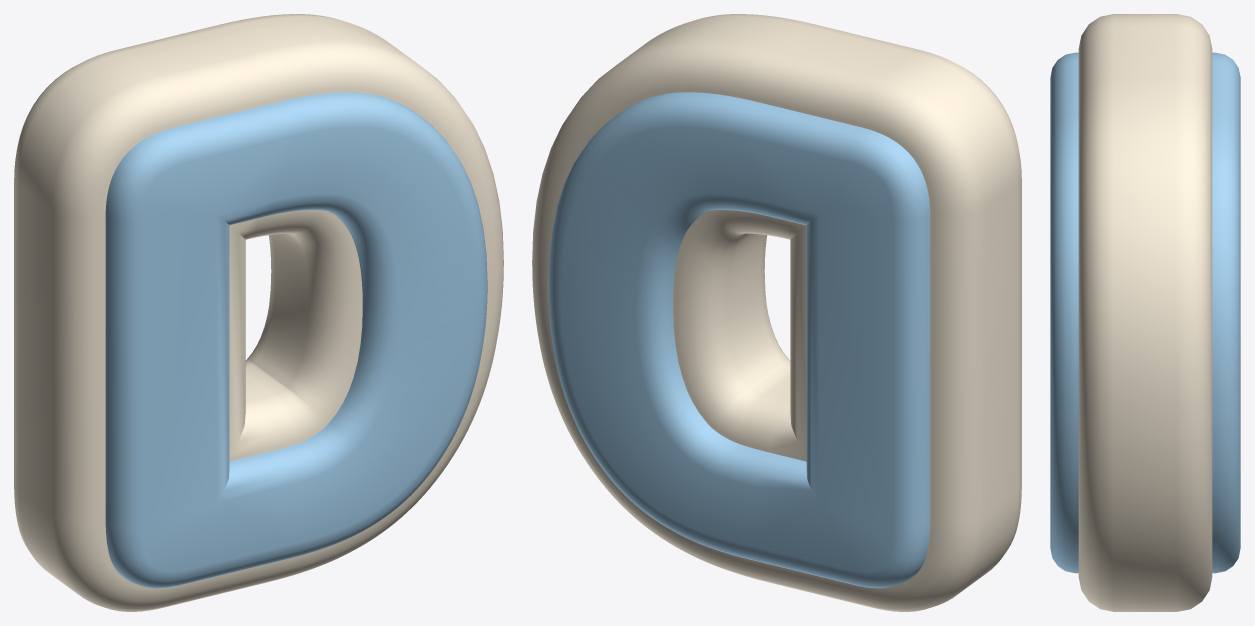
File: candy_letter_D.glb
3 renders of one model, left to right at view 1: azimuth 30°, elevation 25°; view 2: azimuth 150°, elevation 25°; view 3: azimuth 270°, elevation 25°, orthographic. The views are drawn at different scales.
Visible parts, largest first — view 1: candy_letter_D; view 2: candy_letter_D; view 3: candy_letter_D.
Part boxes in pixels (<box>): candy_letter_D: <box>14,14,503,611</box>; candy_letter_D: <box>532,14,1021,611</box>; candy_letter_D: <box>1050,14,1240,611</box>.
Size of the model in its own units: 0.7088 by 0.8 by 0.2739.
